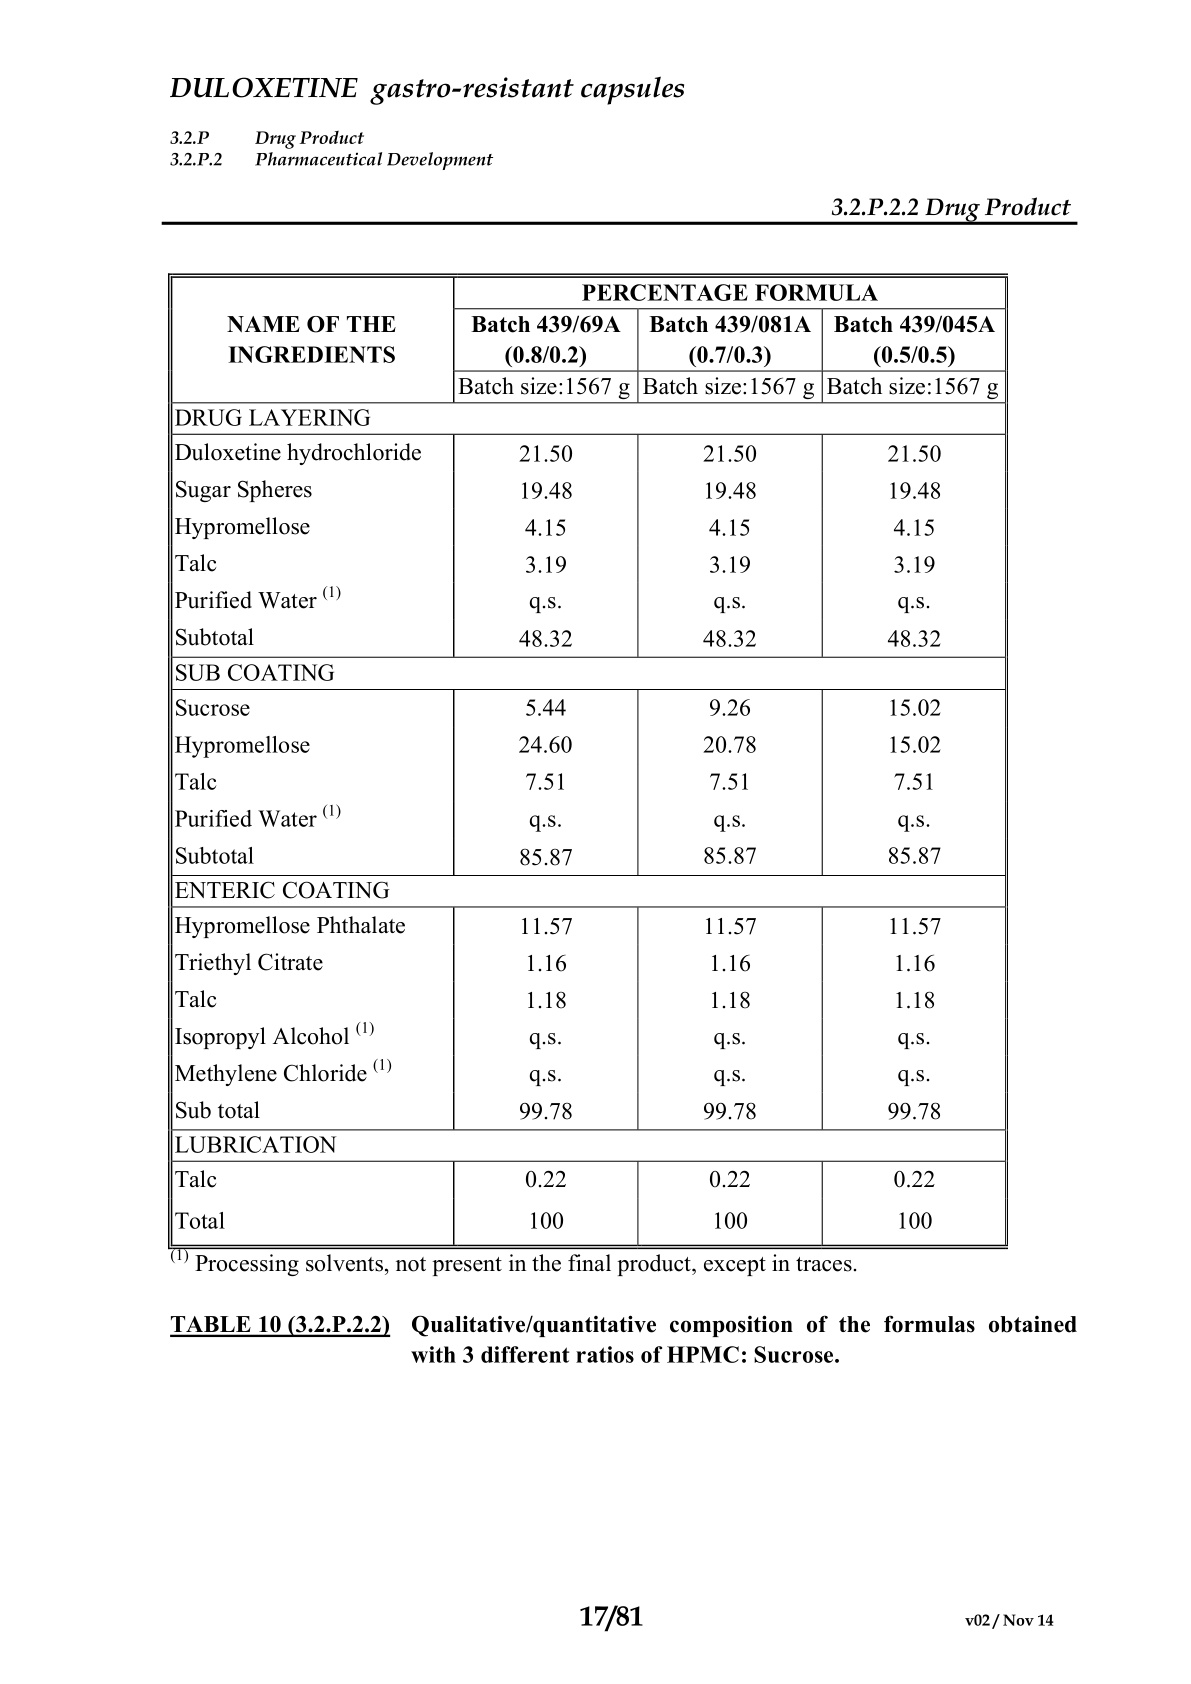merged_cells: (168, 272, 1009, 1250)
